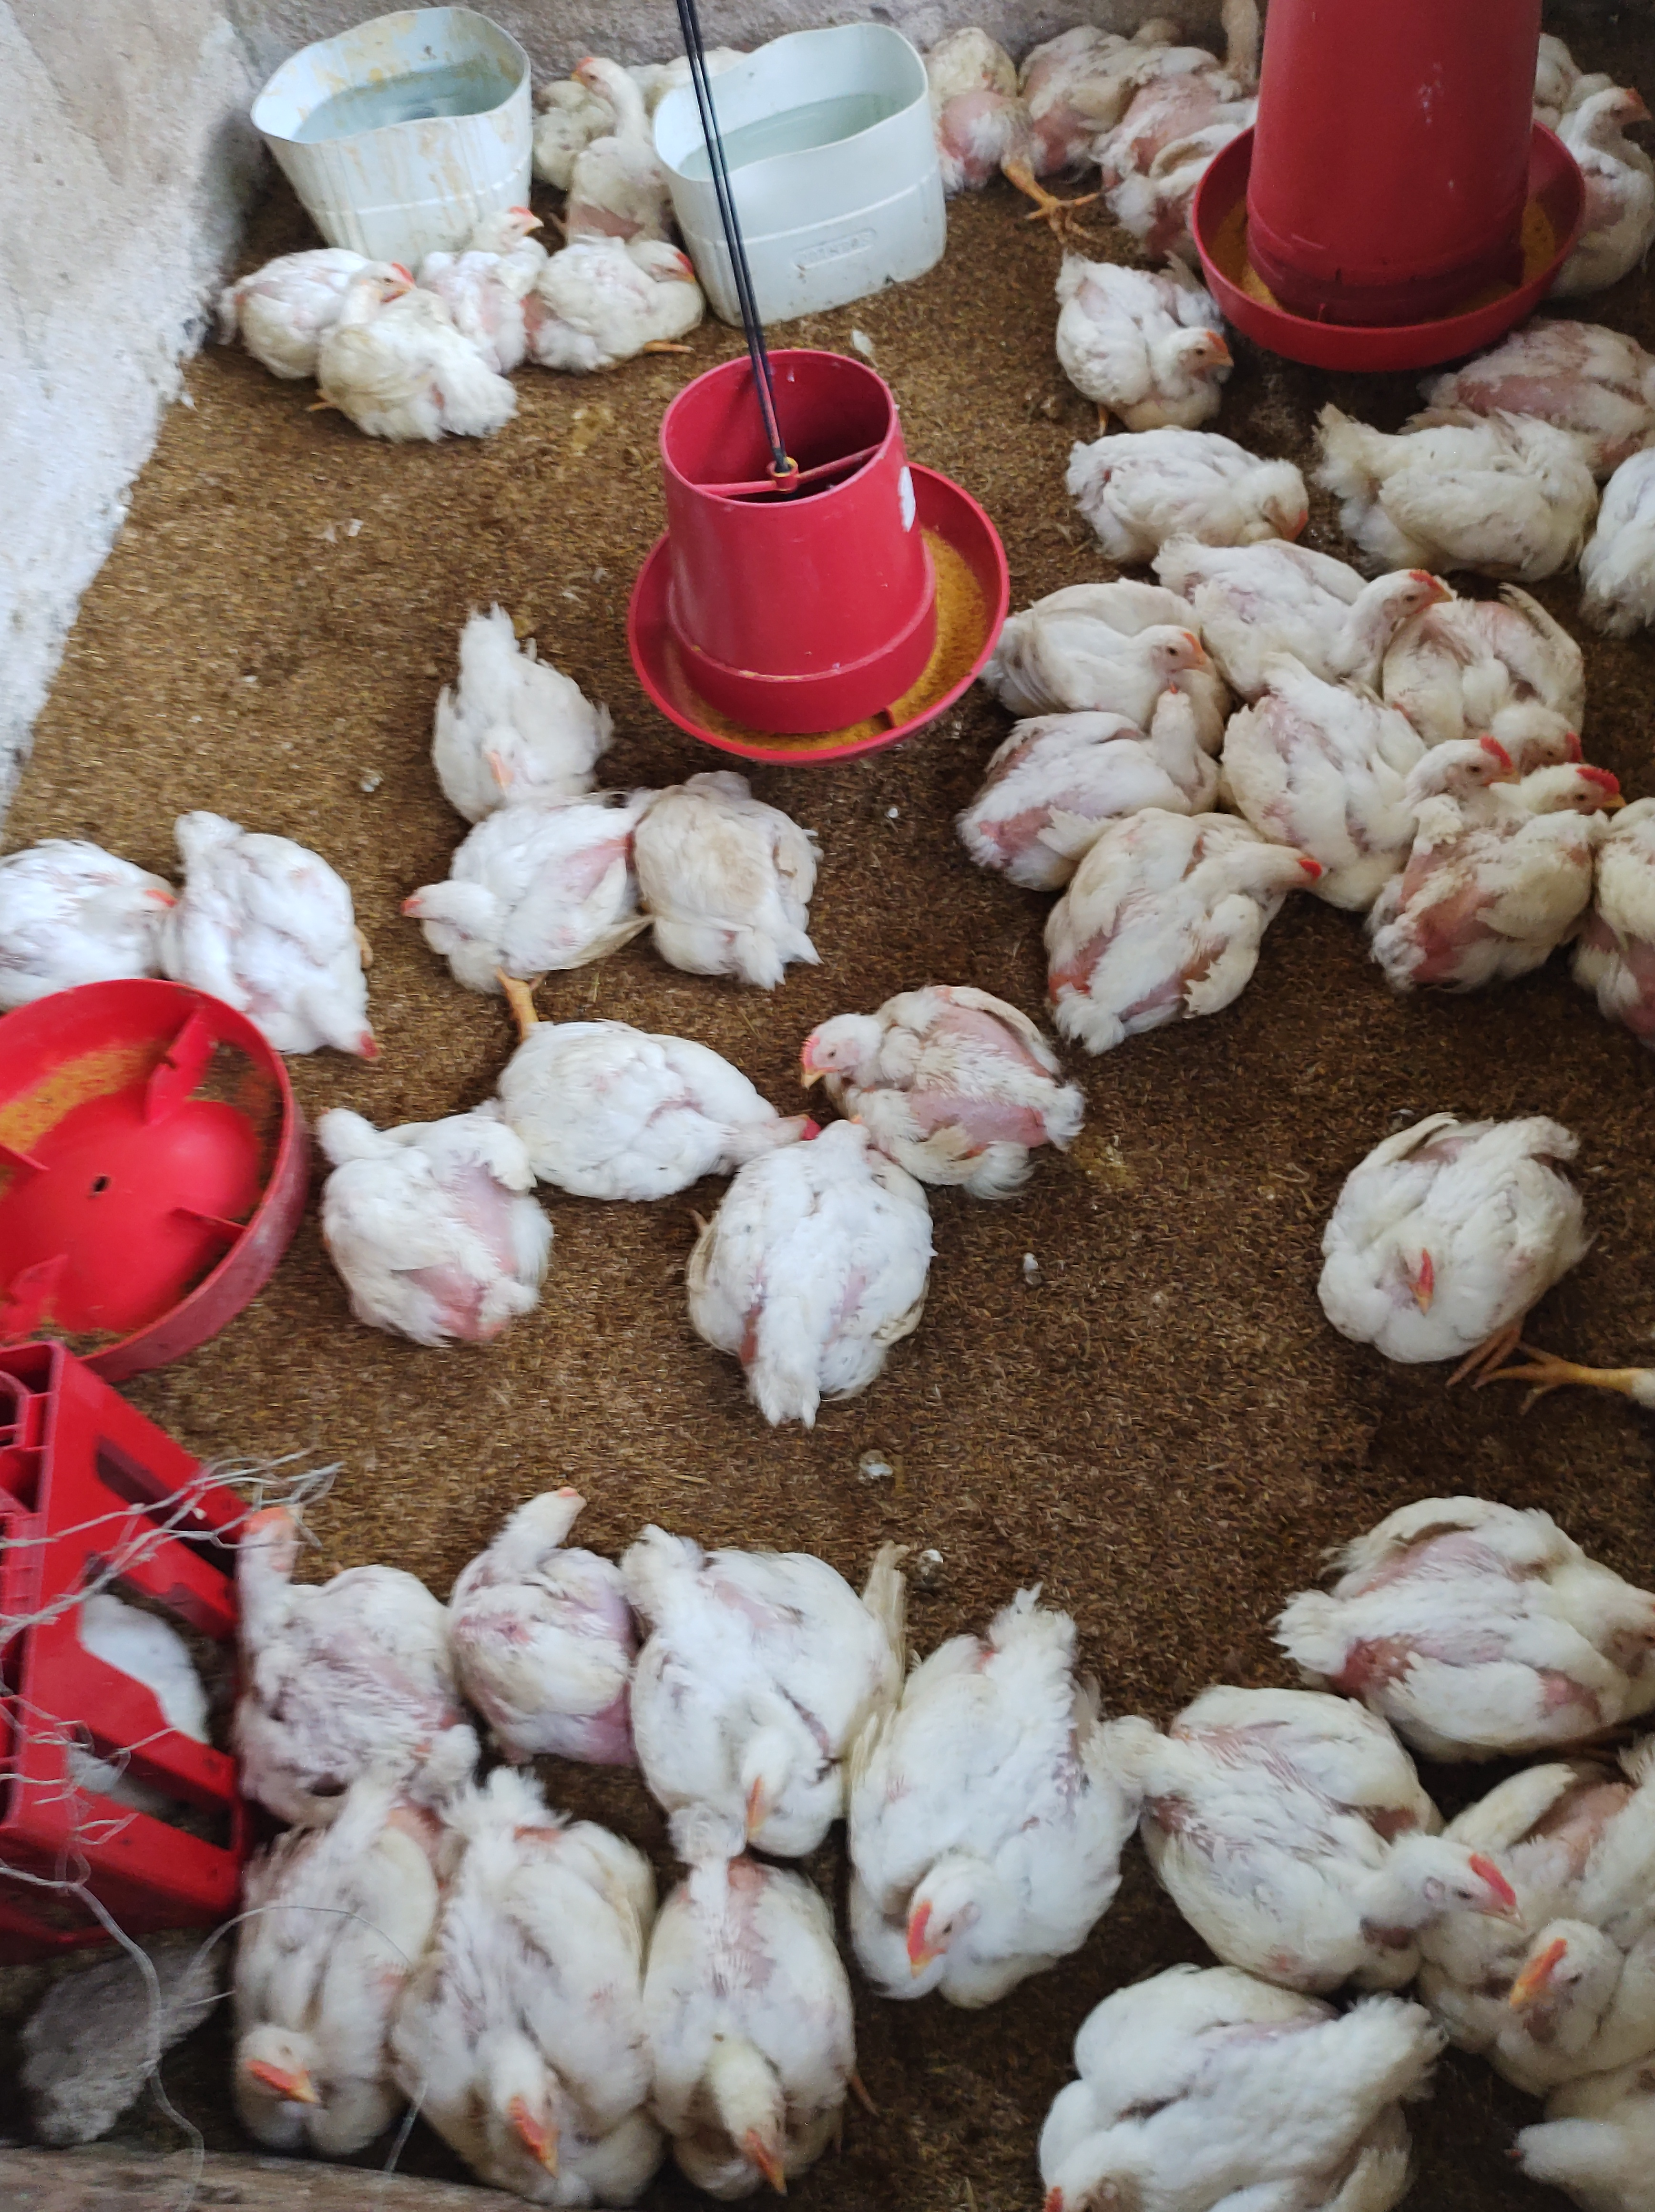Pollos: (1020, 1953, 1476, 2212), (848, 1610, 1140, 2002), (1175, 1673, 1518, 2002), (419, 1774, 654, 2195), (184, 1475, 462, 1800), (648, 1833, 887, 2205), (1358, 1464, 1655, 1756), (1306, 1094, 1599, 1388), (619, 1513, 864, 1838), (210, 1789, 419, 2163), (807, 944, 1083, 1210), (681, 1129, 937, 1416), (1033, 805, 1330, 1043), (469, 989, 805, 1196), (450, 1462, 659, 1786), (299, 1082, 563, 1336), (186, 800, 402, 1064), (1231, 683, 1502, 890), (391, 791, 636, 1000), (640, 751, 824, 1012), (415, 591, 612, 796), (1377, 393, 1587, 583), (1034, 419, 1321, 555), (953, 699, 1212, 838), (1224, 515, 1434, 680), (0, 810, 186, 991), (1010, 555, 1213, 703), (1053, 250, 1231, 410), (1486, 1892, 1646, 2052), (1488, 306, 1655, 454), (1490, 2076, 1655, 2205), (918, 9, 1020, 209), (1462, 668, 1591, 763), (1570, 63, 1655, 198), (1514, 743, 1627, 843), (628, 214, 715, 296), (469, 198, 556, 278), (332, 247, 421, 320), (1210, 0, 1292, 78), (567, 42, 640, 123), (1093, 17, 1189, 63)
